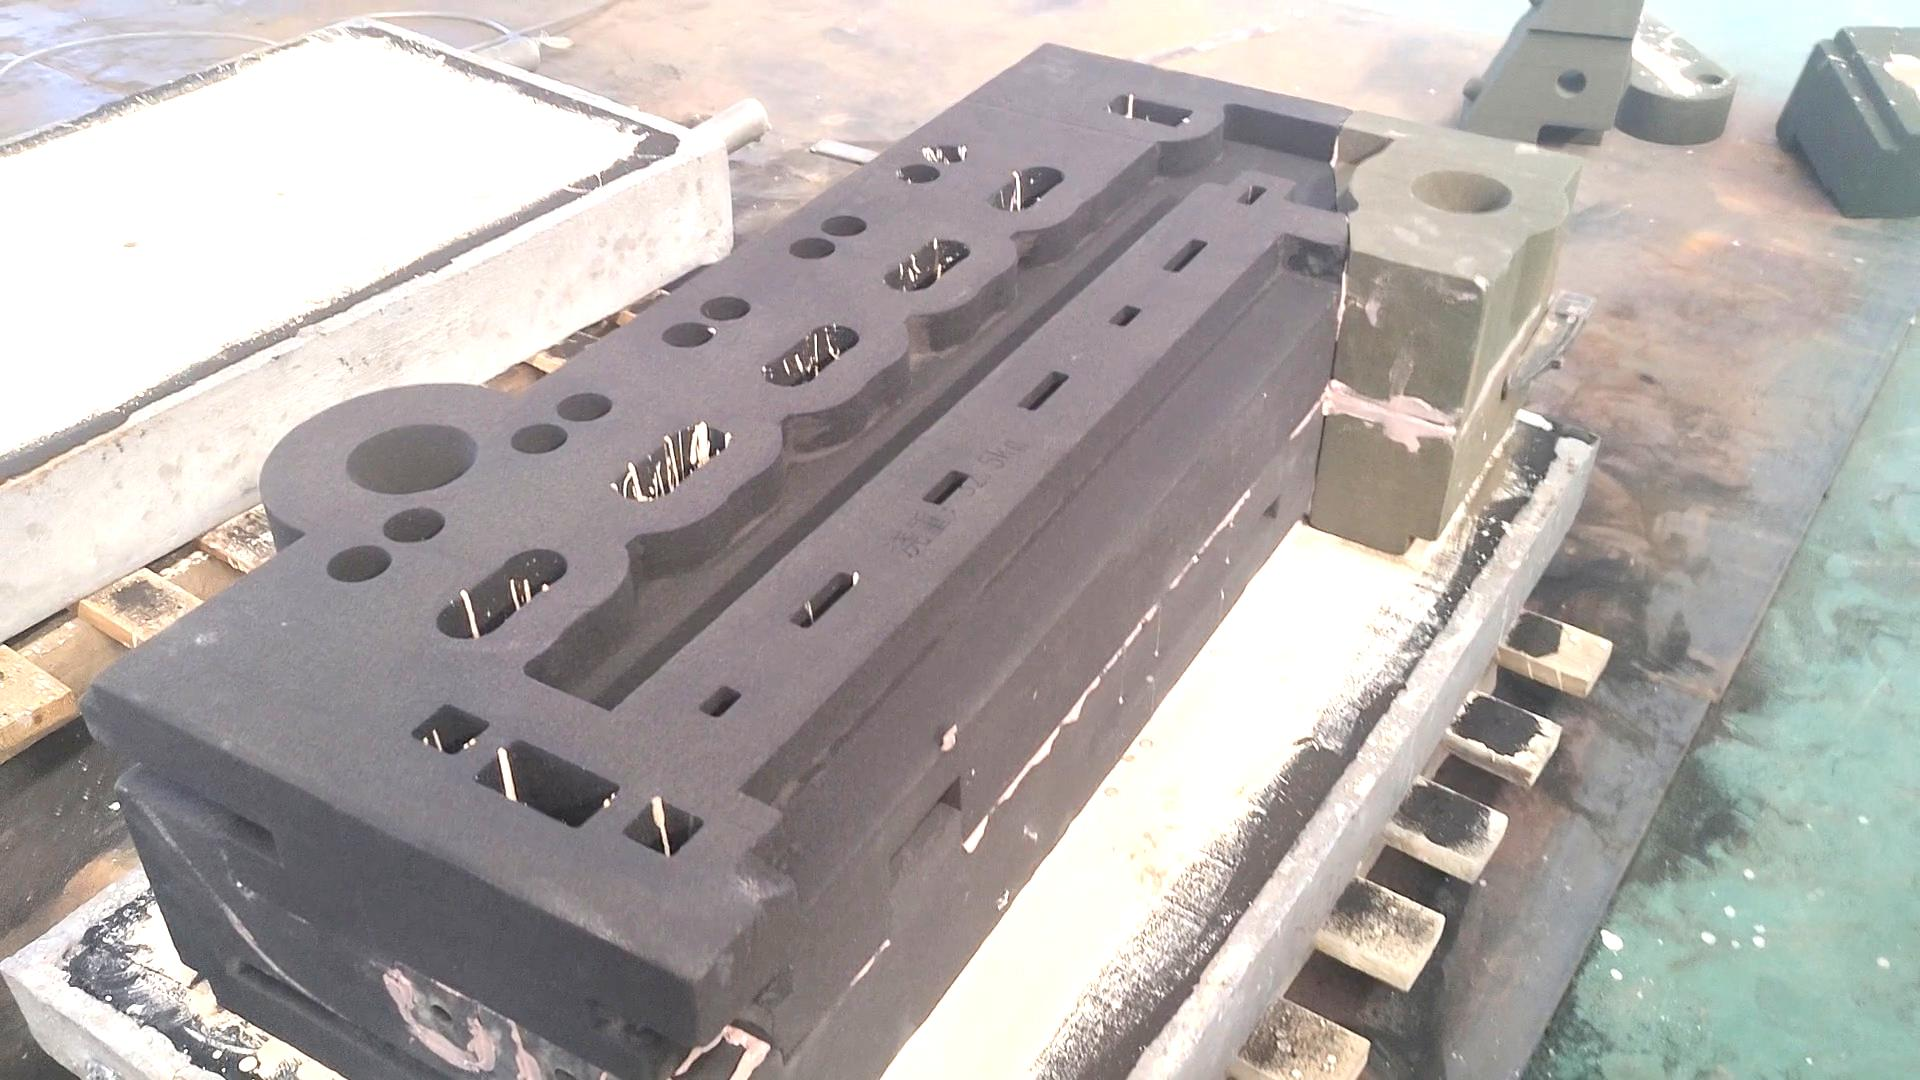pouring hole: (345, 425, 479, 495), (1411, 170, 1513, 215)
